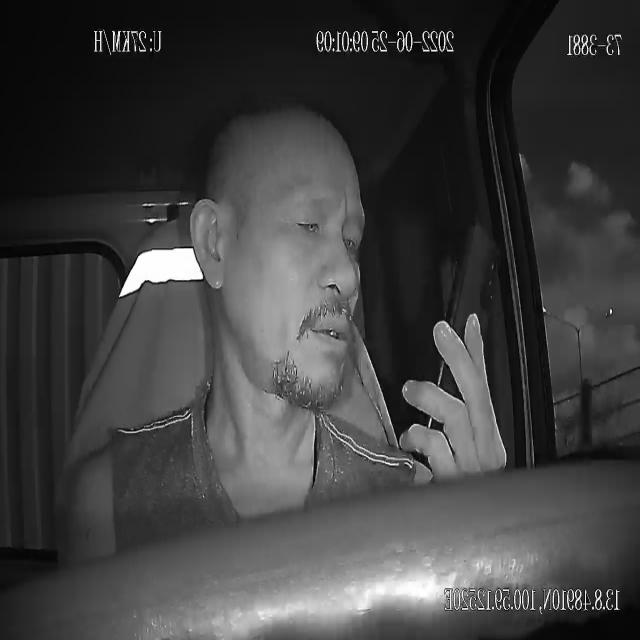phone: (416, 214, 504, 466)
